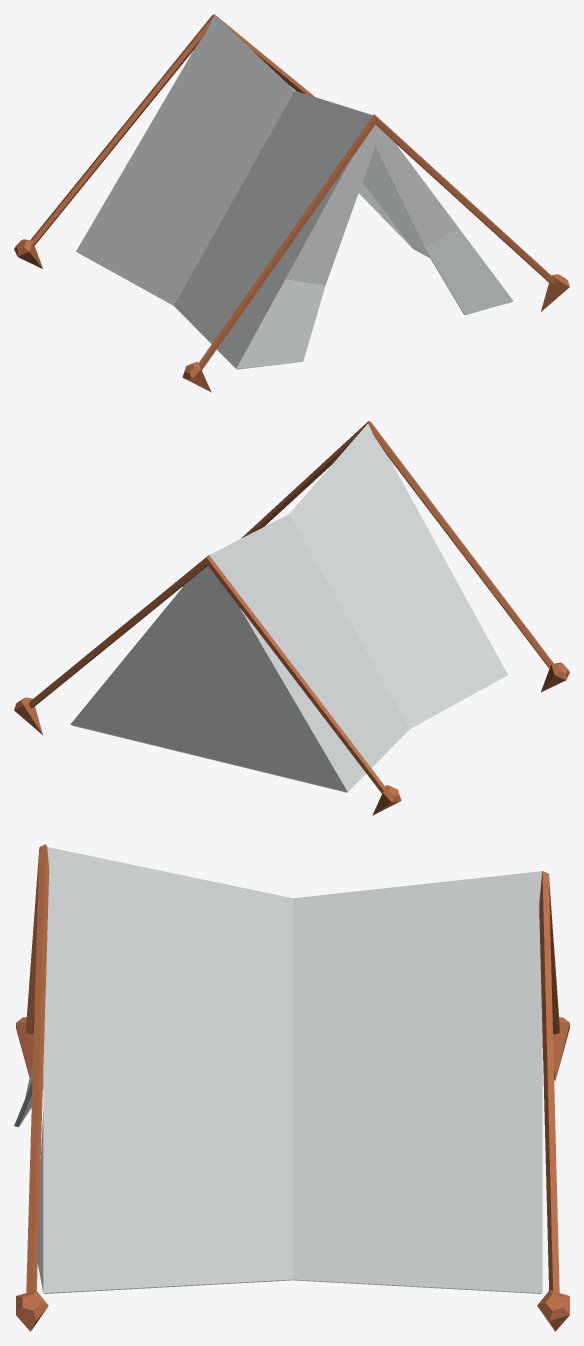
File: camping_tent.glb
3 renders of one model, top to bottom at view 1: azimuth 30°, elevation 25°; view 2: azimuth 150°, elevation 25°; view 3: azimuth 270°, elevation 25°, orthographic. The views are drawn at different scales.
Parts seen in each view (by area): view 1: camping_tent; view 2: camping_tent; view 3: camping_tent.
Part boxes in pixels (x1=…): camping_tent: x1=14, y1=14, x2=569, y2=392; camping_tent: x1=14, y1=421, x2=569, y2=815; camping_tent: x1=14, y1=844, x2=569, y2=1331.
Bounding box in the file's own units: 2.67 × 1.56 × 2.15.
